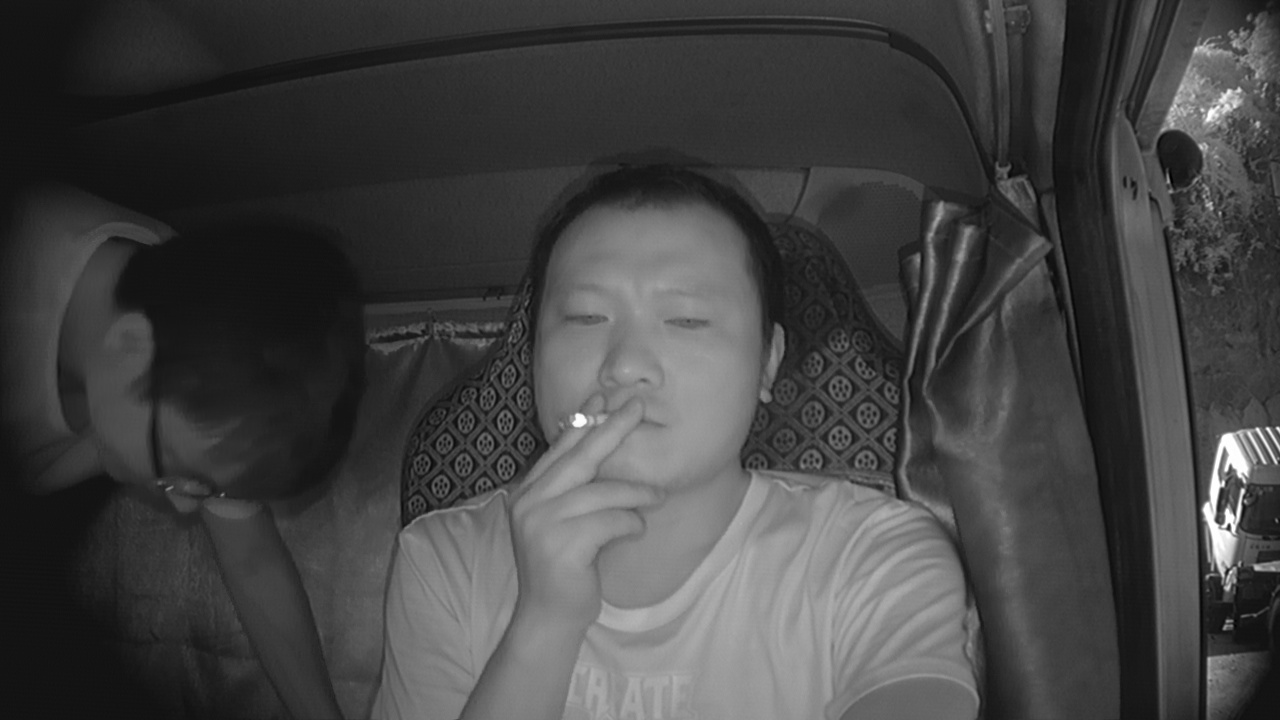hand: (506, 395, 673, 605)
